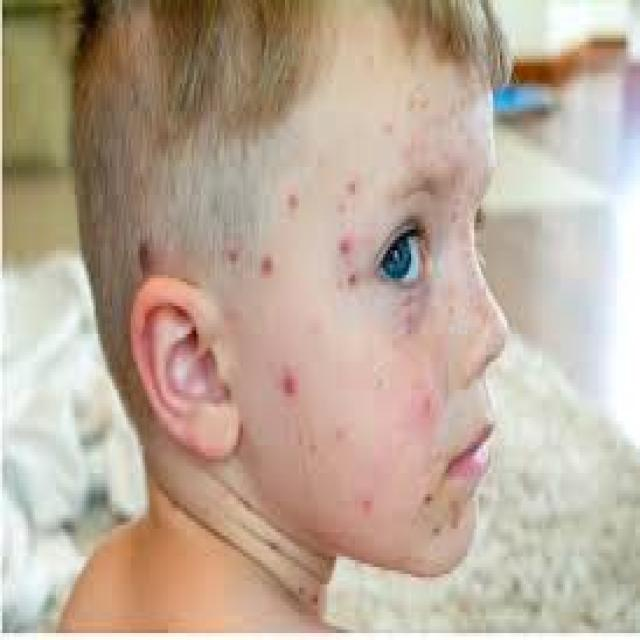Eczema: (222, 202, 365, 421)
